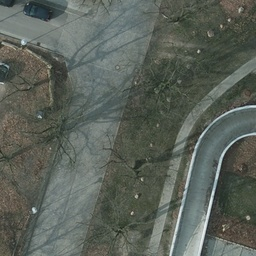car: (23, 1, 53, 21), (1, 57, 17, 91)
